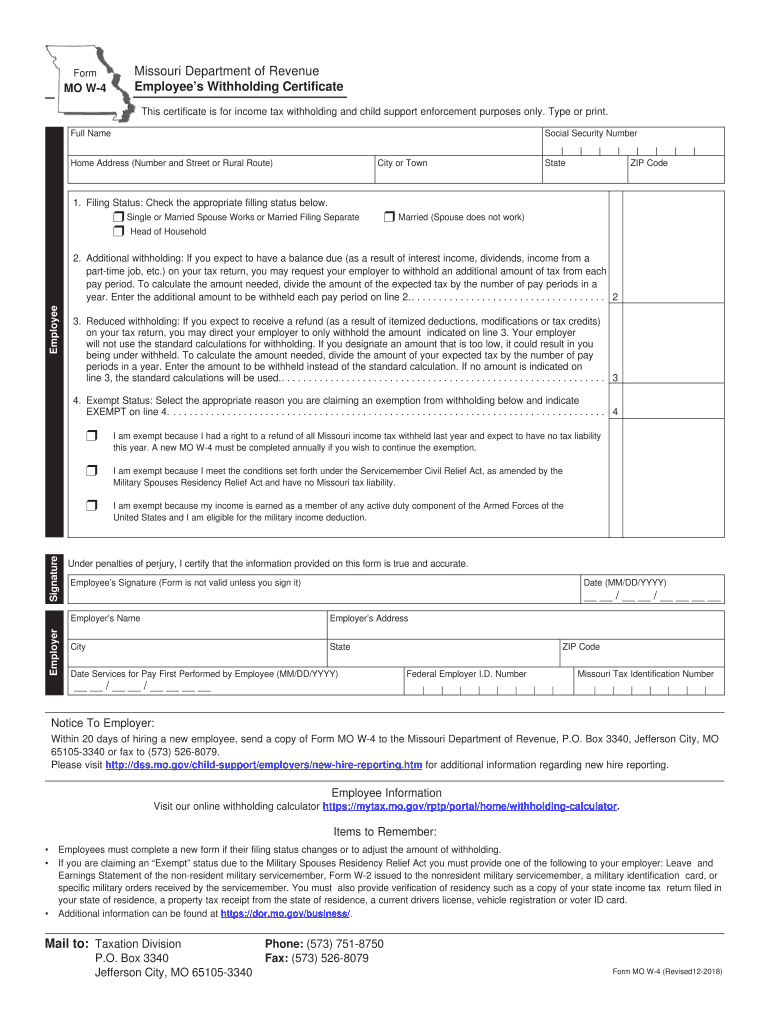checkbox: (109, 209, 125, 223), (380, 209, 396, 223), (110, 223, 126, 237), (83, 428, 99, 442), (83, 463, 99, 477), (83, 498, 99, 512)
textbox: (66, 571, 584, 606), (65, 123, 545, 158), (323, 605, 728, 643), (619, 415, 728, 540), (619, 187, 727, 306), (67, 662, 408, 697), (64, 604, 331, 643), (64, 152, 378, 185), (620, 298, 727, 386), (64, 635, 330, 669), (324, 635, 563, 670), (539, 124, 728, 158), (400, 663, 577, 698), (555, 635, 727, 670), (576, 568, 728, 606), (371, 152, 545, 185), (569, 663, 727, 697), (619, 378, 728, 420), (623, 151, 727, 186), (539, 152, 630, 186)
